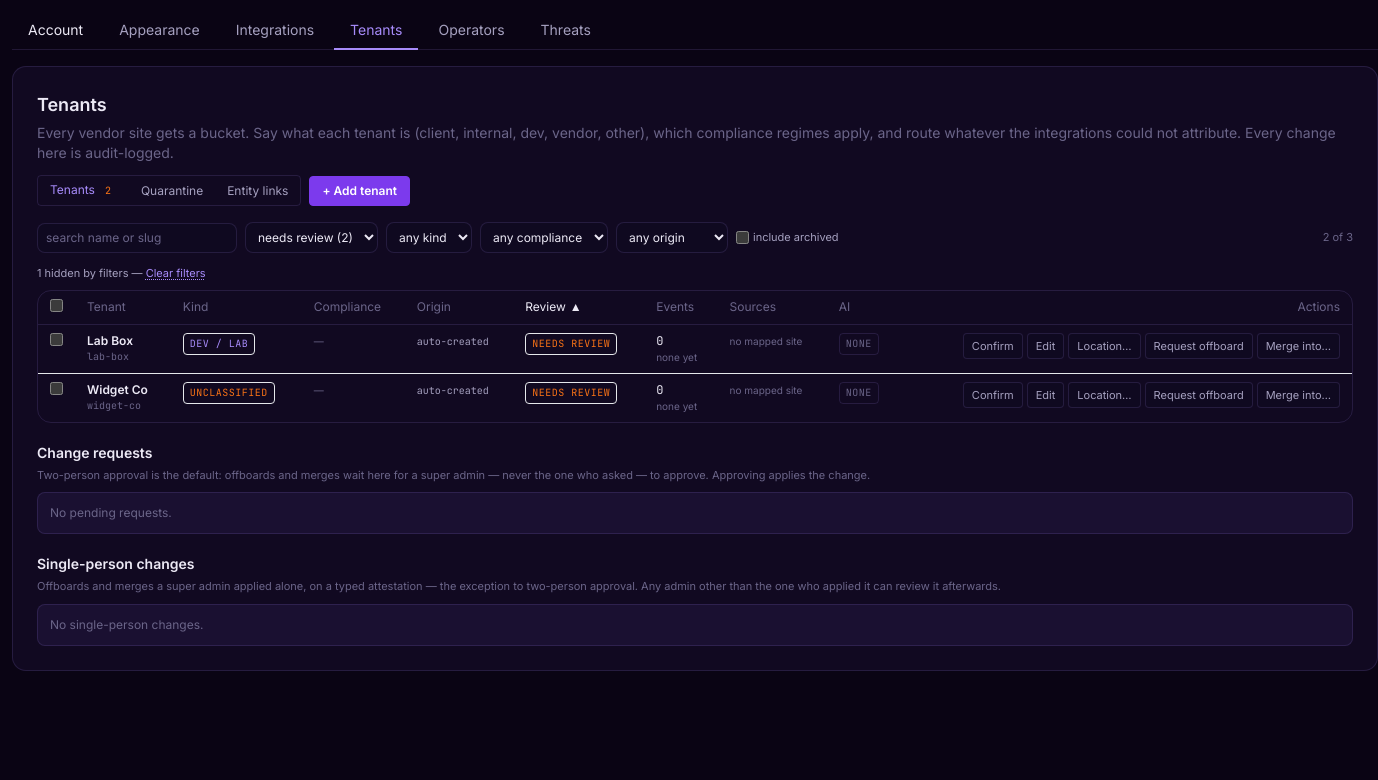
Settings → Tenants deep link › ?filter=needs-review → Confirm → row stays; the Tenants tab link then clears the filter
The image size is (1378, 780).
expect the dropdown named "filter by review state" shows "needs review (2)": met, box 245,222 -> 378,253
What coordinates should you click on to do the following:
click the button with test id "confirm-lab-box"
I would click on:
 (993, 346)
Its box is 963,332 -> 1023,358.
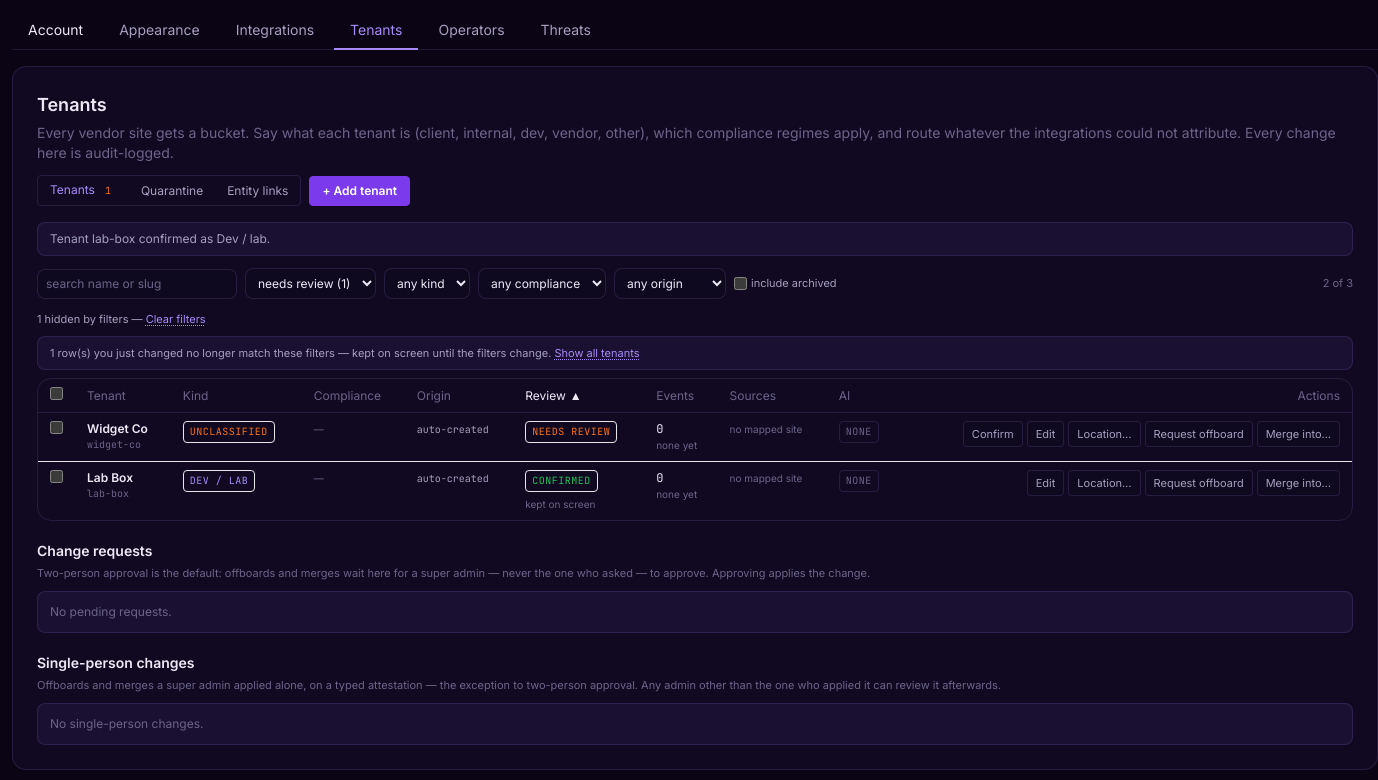
expect the button with test id "edit-lab-box" is shown: met, box 1027,470 -> 1064,496
expect the text "confirmed" is shown: met, box 525,470 -> 598,492
// The settings nav's "Tenants" tab → /settings/tenants: filter gone, every tenant listed.
What coordinates should you click on to do the following:
click the tab "Tenants"
I would click on:
 (376, 31)
Its box is 334,12 -> 418,50.
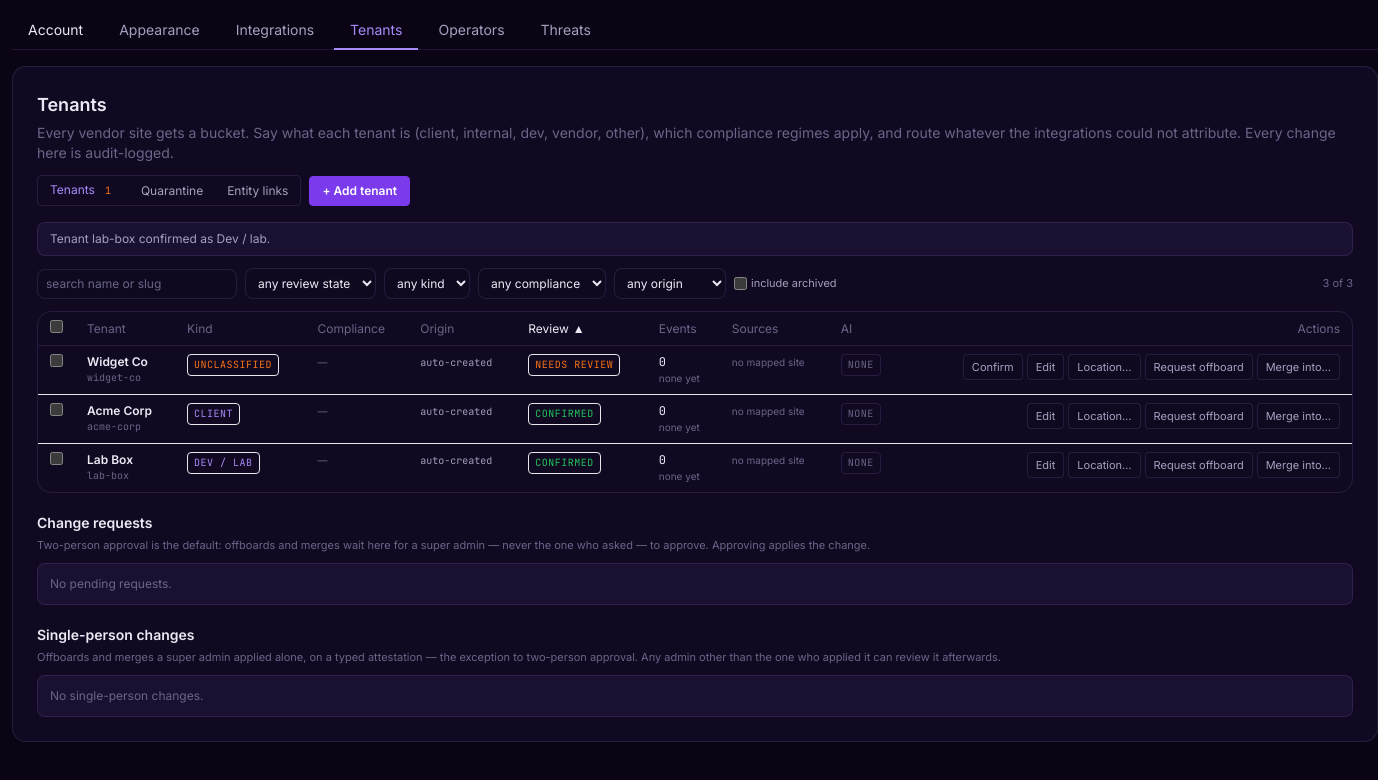
expect the dropdown named "filter by review state" shows "any review state": met, box 245,268 -> 376,299
